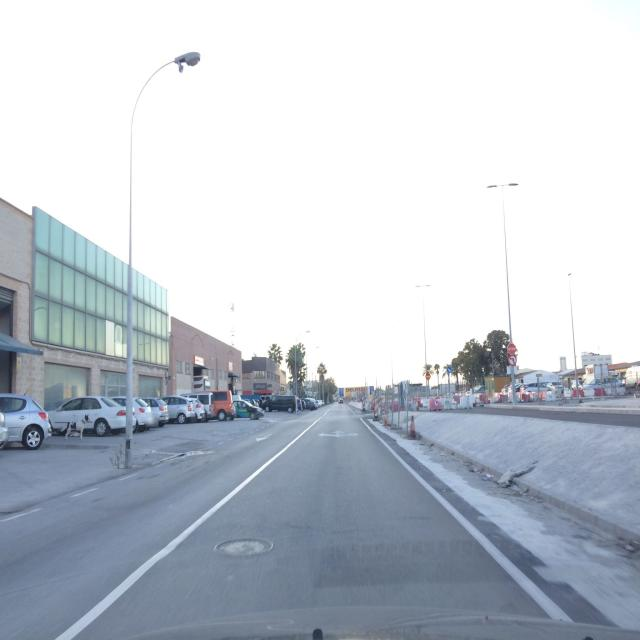car: (46, 395, 133, 437), (0, 392, 52, 451), (108, 395, 154, 431), (196, 390, 235, 421), (160, 395, 194, 424), (139, 397, 169, 428), (263, 394, 300, 413), (232, 399, 262, 419), (186, 397, 208, 423), (428, 396, 446, 411), (303, 398, 317, 410)
